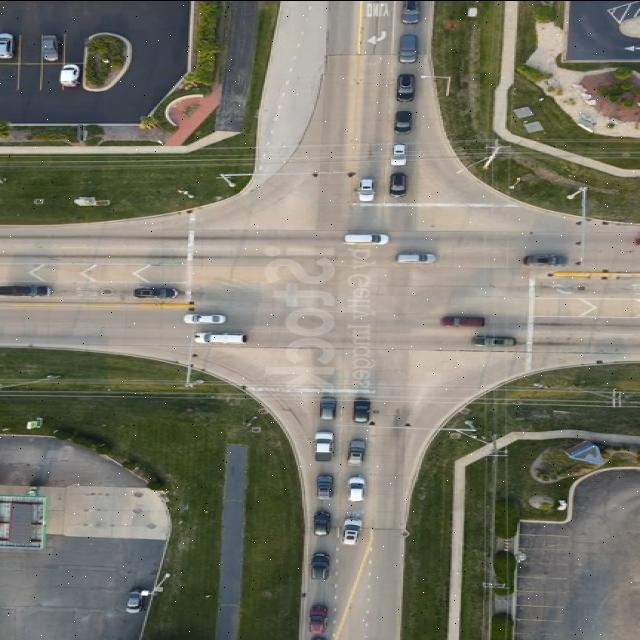car: (0, 283, 52, 295), (198, 332, 248, 344), (309, 605, 330, 633), (400, 33, 420, 62), (400, 68, 420, 96), (345, 233, 391, 245), (135, 286, 180, 298), (350, 236, 395, 248), (126, 588, 148, 612), (312, 552, 332, 578), (344, 518, 364, 544), (396, 75, 416, 101), (442, 315, 488, 326), (475, 336, 519, 347), (404, 0, 424, 24), (353, 398, 373, 422), (60, 64, 80, 86), (349, 477, 367, 501), (349, 440, 367, 464), (316, 475, 334, 499), (314, 511, 332, 535), (397, 112, 415, 136), (186, 313, 228, 323), (320, 396, 338, 419), (358, 177, 376, 200), (396, 252, 436, 262), (524, 254, 564, 264), (390, 172, 408, 194), (0, 33, 15, 58), (391, 142, 407, 164)
pickup-truck: (40, 33, 60, 61)
